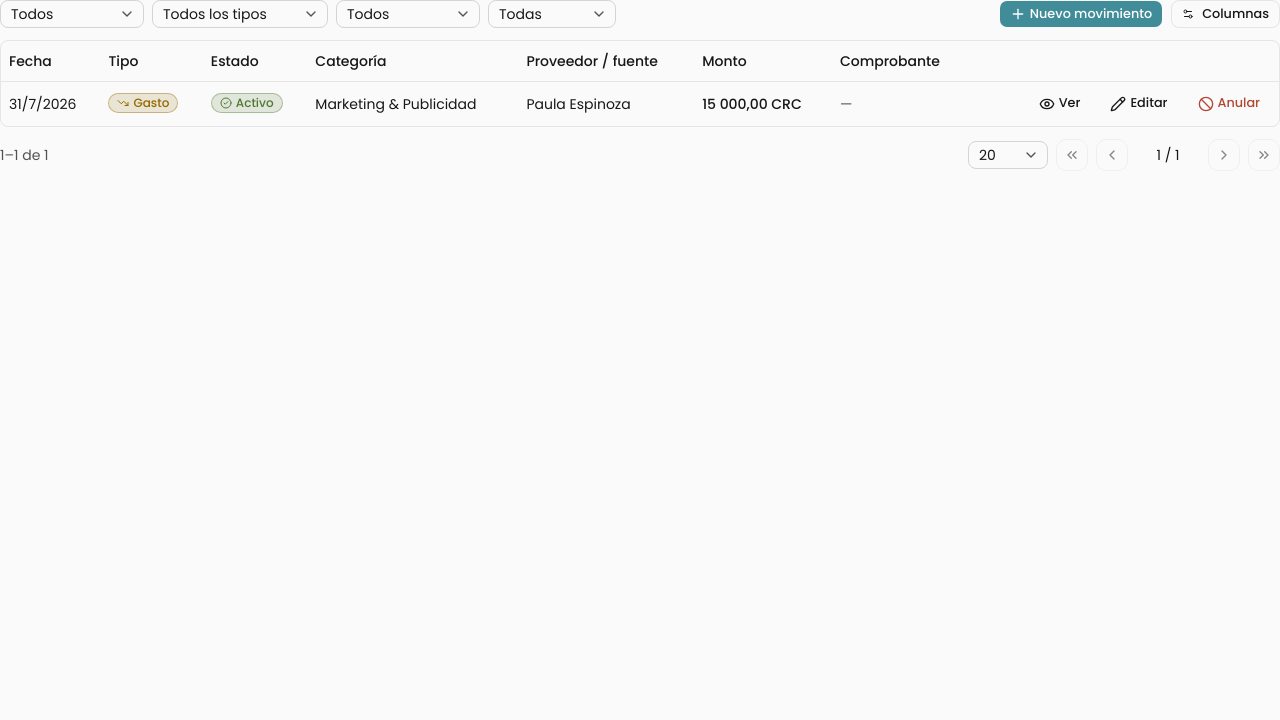
Scenario: FinanceEntriesTable — el click en la fila abre el detalle, no la edición › el detalle cierra con Esc
The width and height of the screenshot is (1280, 720).
Click the text "Paula Espinoza" at (43, 104), box [1,81,1279,126]
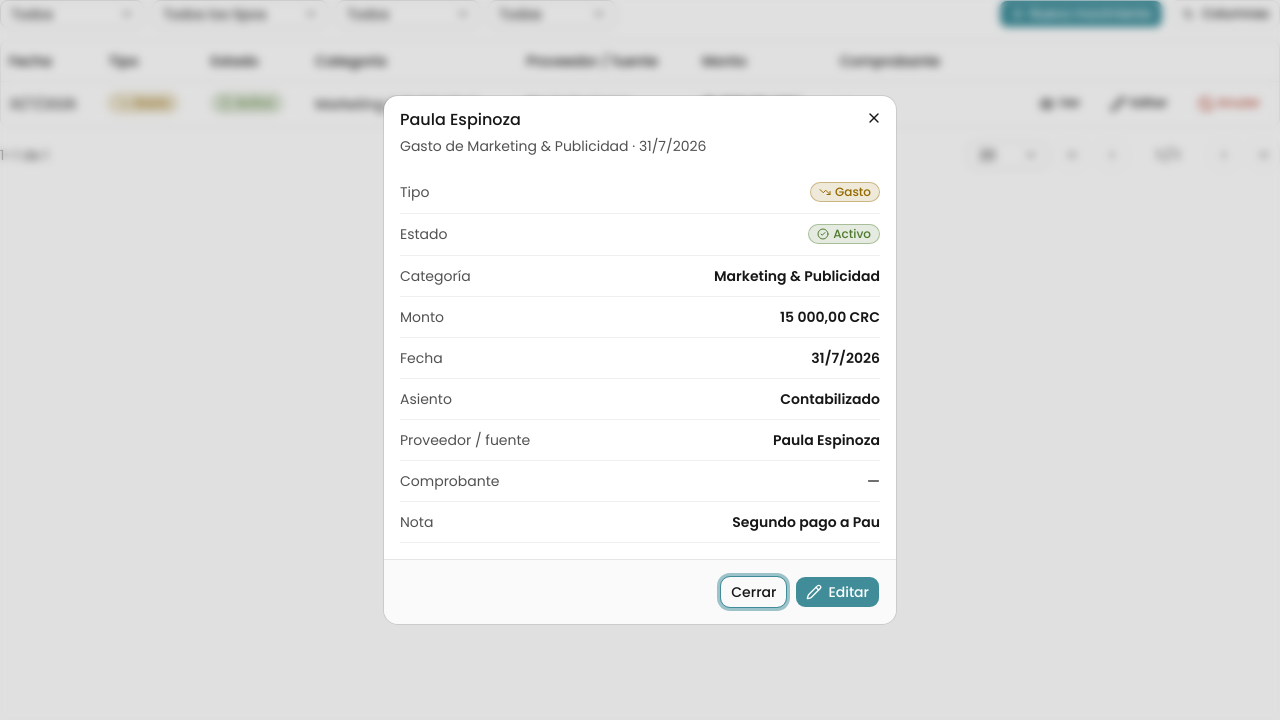
Expected: the dialog is shown, [384,96,896,624]
Press Escape in the button "Cerrar", box [720,576,787,608]
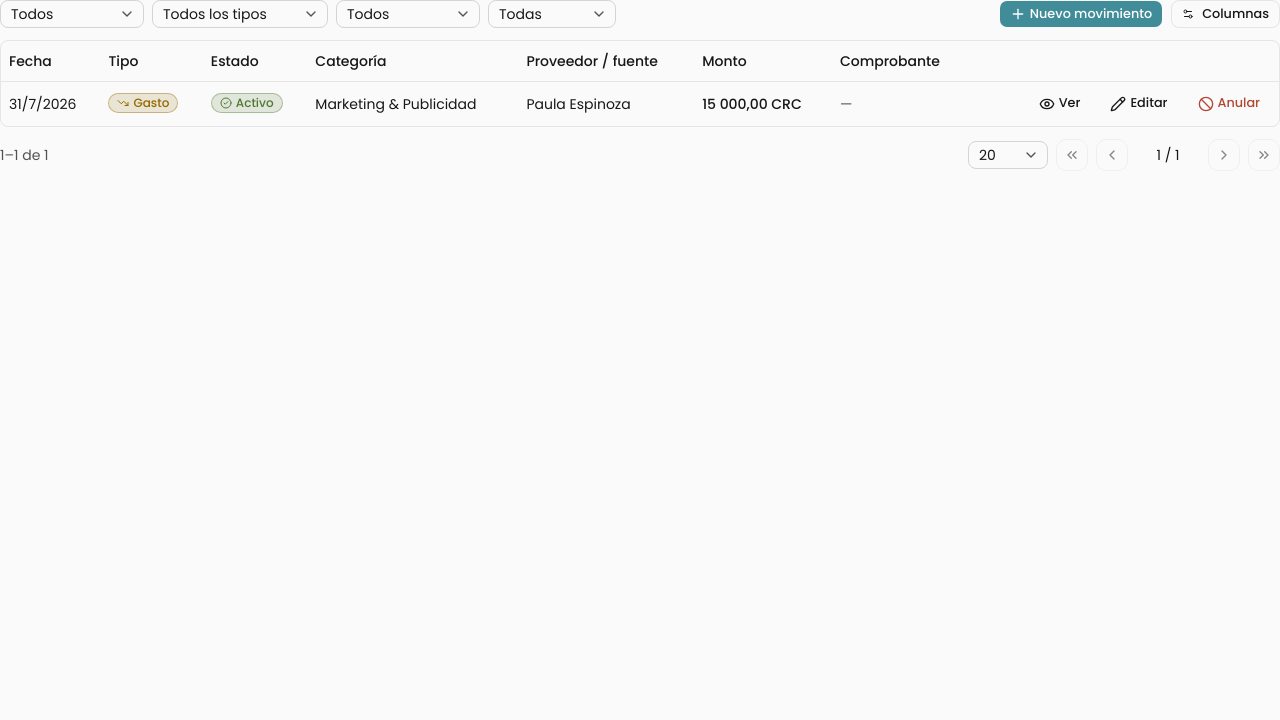
Expected: the dialog is gone
